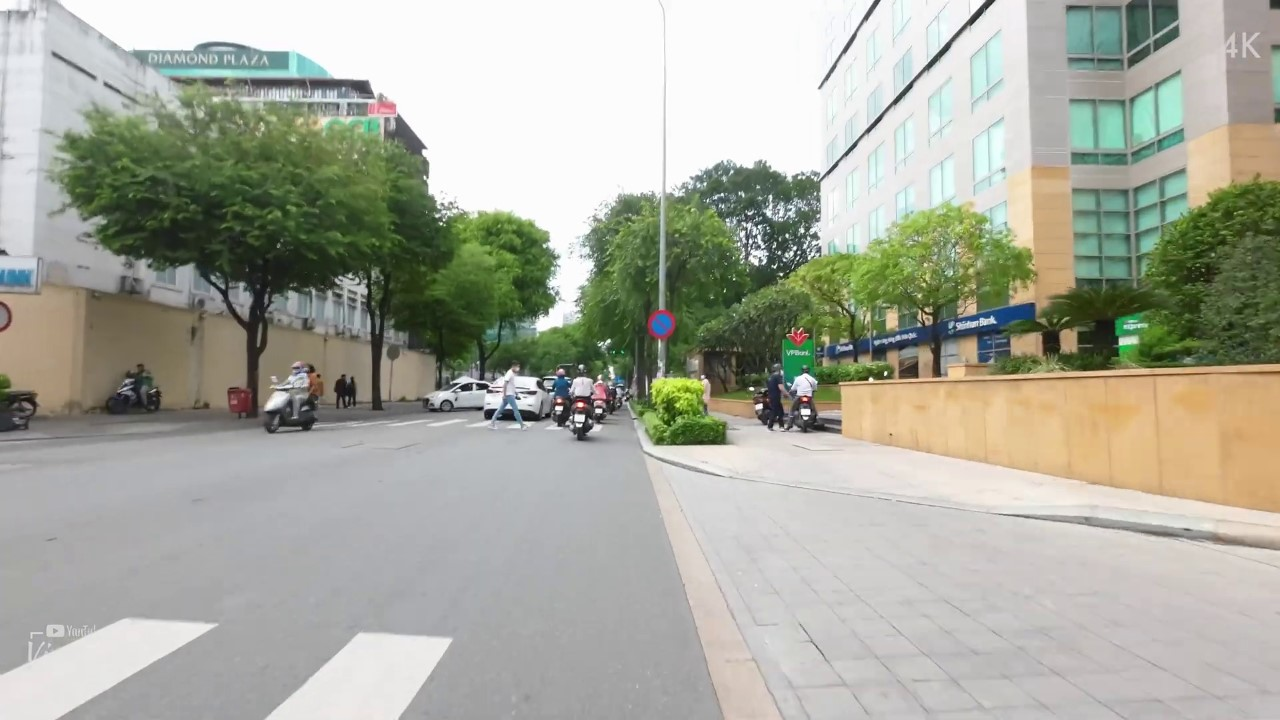cam_do_xe: (647, 309, 676, 339)
